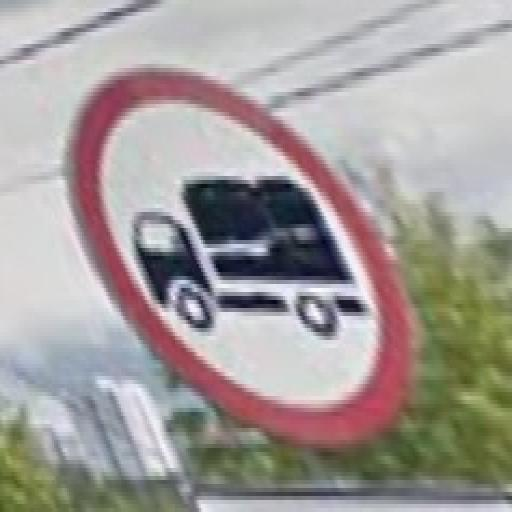traffic_sign: (66, 65, 418, 445)
